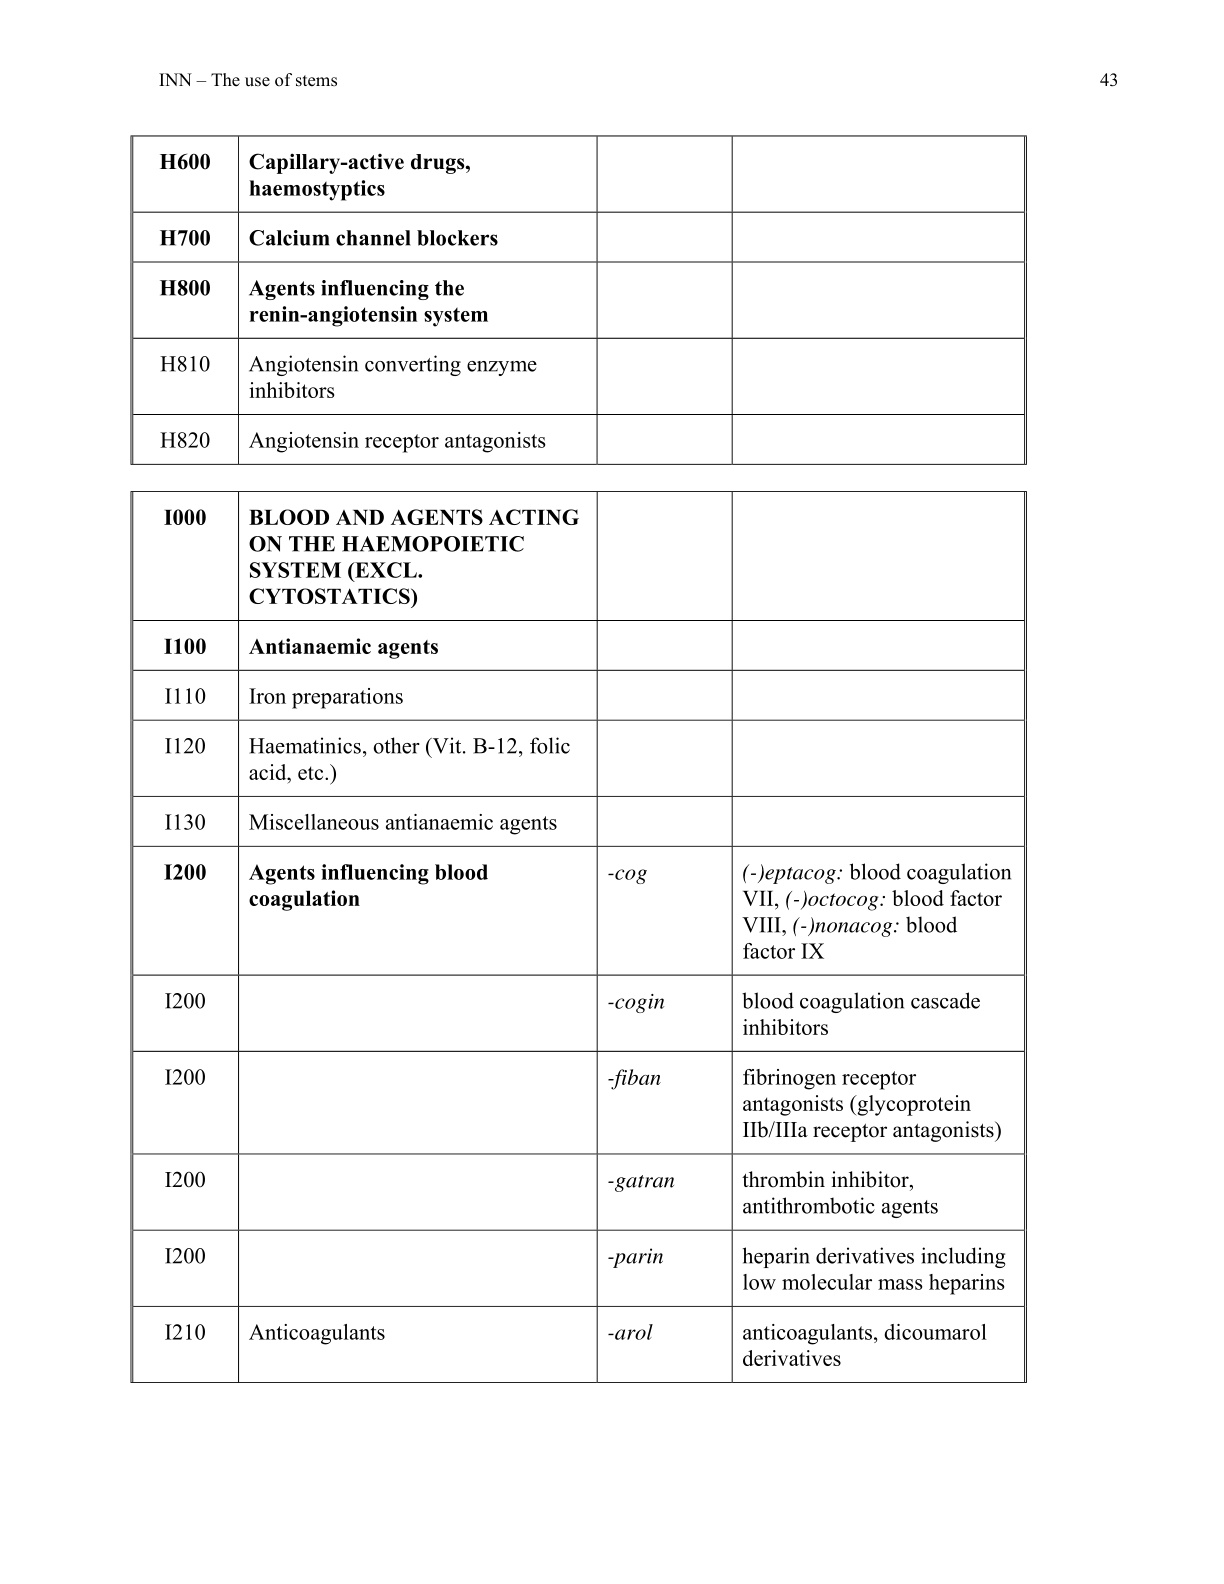full_lined: (129, 490, 1027, 1383), (129, 134, 1027, 465)
